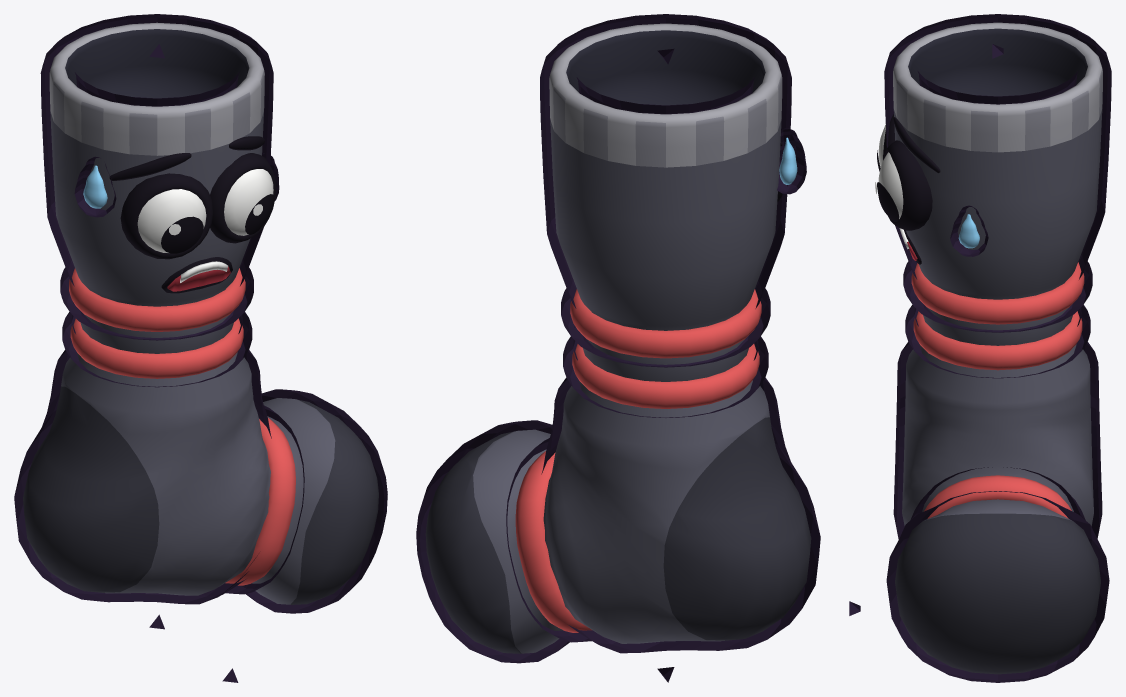
Rendered from Compressio_R.glb.
3 renders of one model, left to right at view 1: azimuth 30°, elevation 25°; view 2: azimuth 150°, elevation 25°; view 3: azimuth 270°, elevation 25°, orthographic. The views are drawn at different scales.
Parts seen in each view (by area): view 1: Compressio_R, Compressio_R_Outline; view 2: Compressio_R, Compressio_R_Outline; view 3: Compressio_R, Compressio_R_Outline.
Boxes of the visible parts, <box> form: Compressio_R: <box>23,22,378,604</box>; Compressio_R_Outline: <box>14,14,387,613</box>; Compressio_R: <box>425,23,811,653</box>; Compressio_R_Outline: <box>416,14,820,663</box>; Compressio_R: <box>875,22,1102,674</box>; Compressio_R_Outline: <box>884,14,1111,682</box>.
Size of the model in its own units: 2.68 by 4.4 by 1.83.
Materials: 1 (1 with a texture image).
